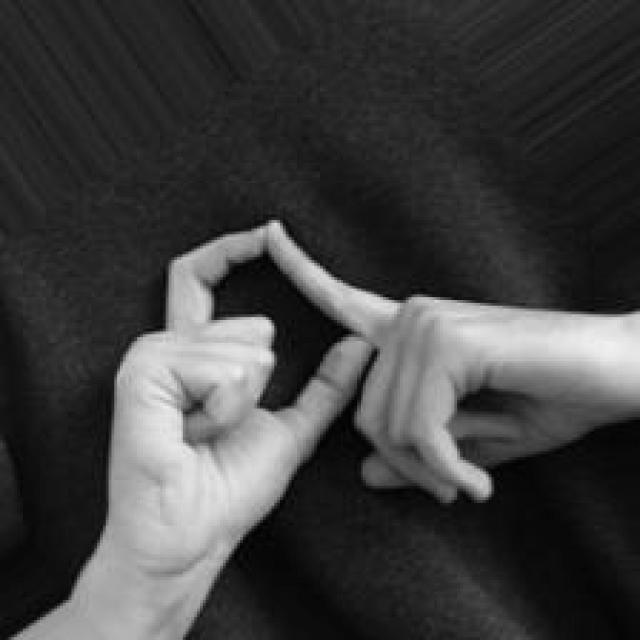D: (91, 217, 640, 640)
